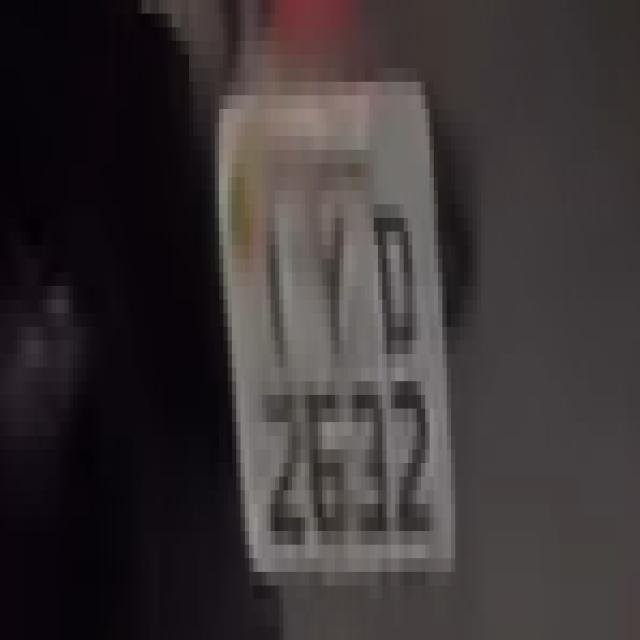placa_moto: (215, 73, 458, 581)
